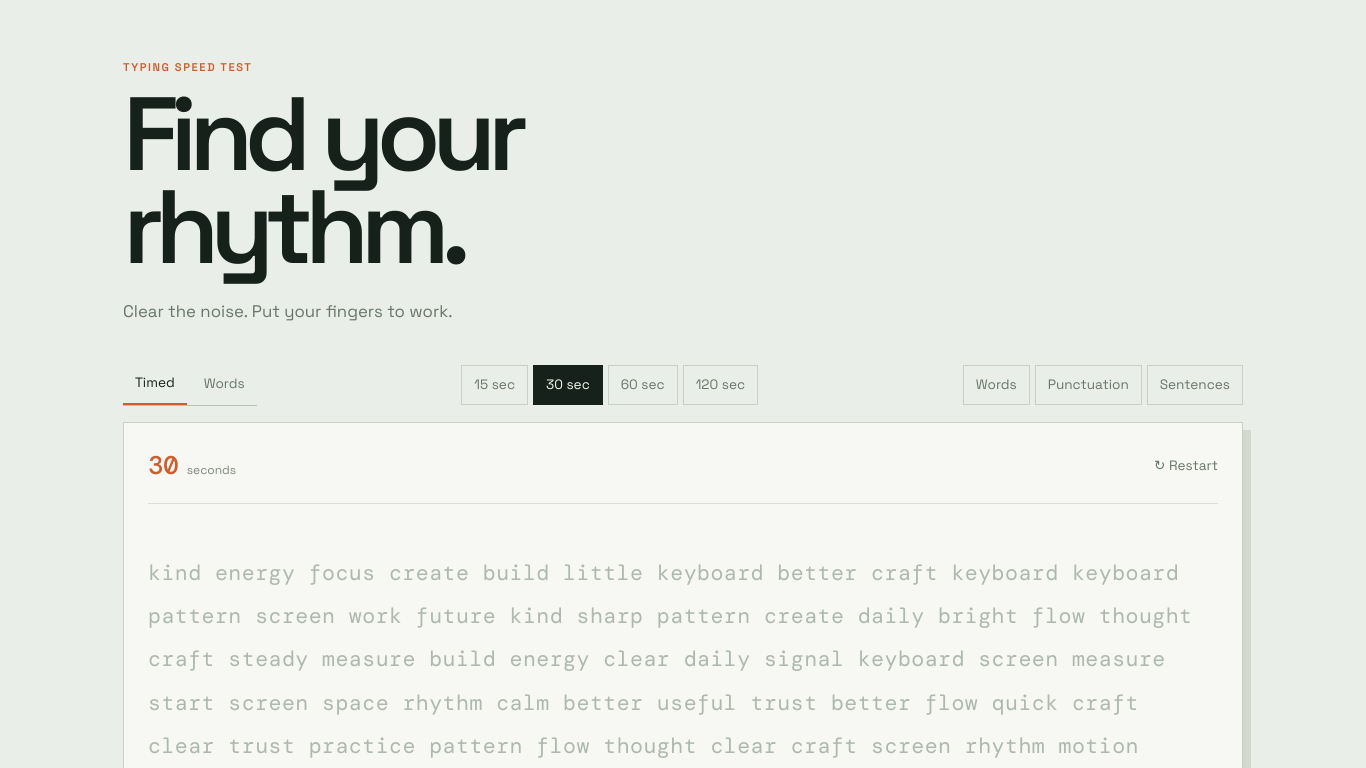
TypeSprint › switches between timed and word modes
(page scrolled)
Step 1. Click the 1st button "Words" → (224, 384), box [192,364,257,405]
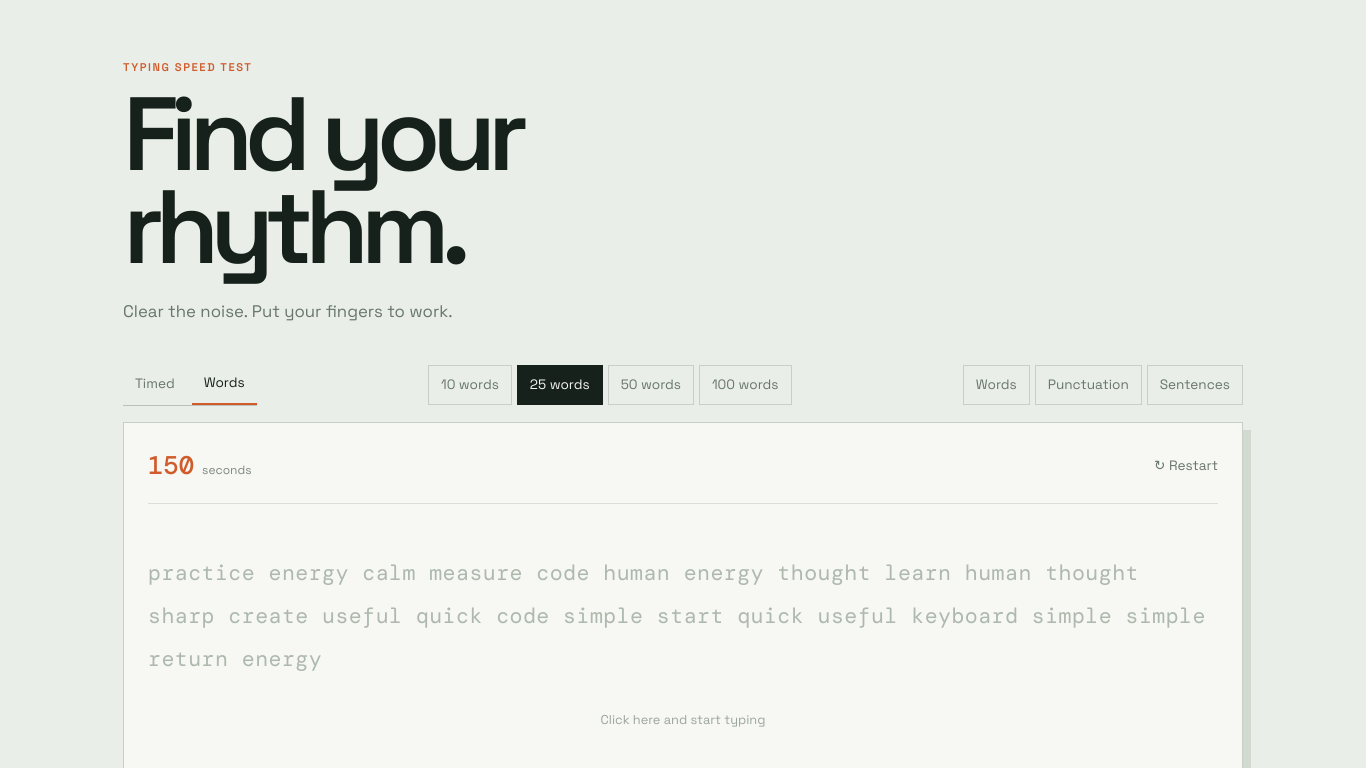
Now the button "25 words" is shown, box [517,365,603,405]
